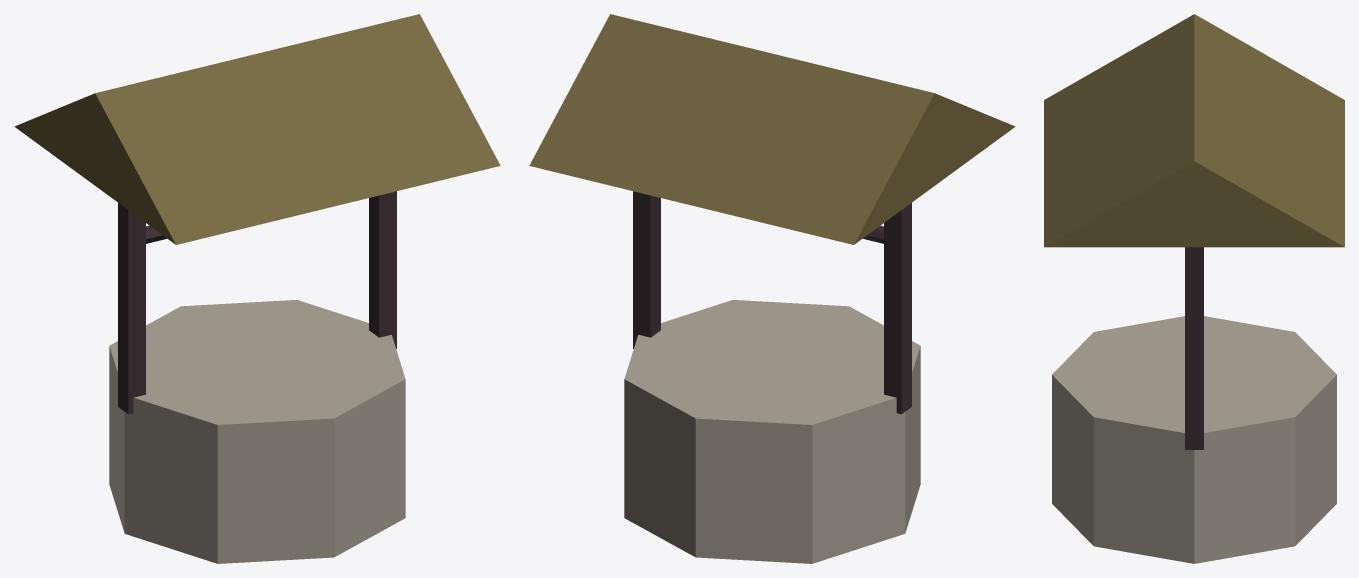
Rendered from well_cursed.glb.
3 views of the same model, side by side, from view 1: azimuth 30°, elevation 25°; view 2: azimuth 150°, elevation 25°; view 3: azimuth 270°, elevation 25° (orthographic). The views are drawn at different scales.
Parts seen in each view (by area): view 1: well_cursed; view 2: well_cursed; view 3: well_cursed.
Part boxes in pixels (bbox=[...]): well_cursed: bbox=[14, 14, 500, 563]; well_cursed: bbox=[529, 14, 1015, 563]; well_cursed: bbox=[1044, 14, 1344, 563].
Size of the model in its own units: 2.2 by 2.9 by 1.9.
